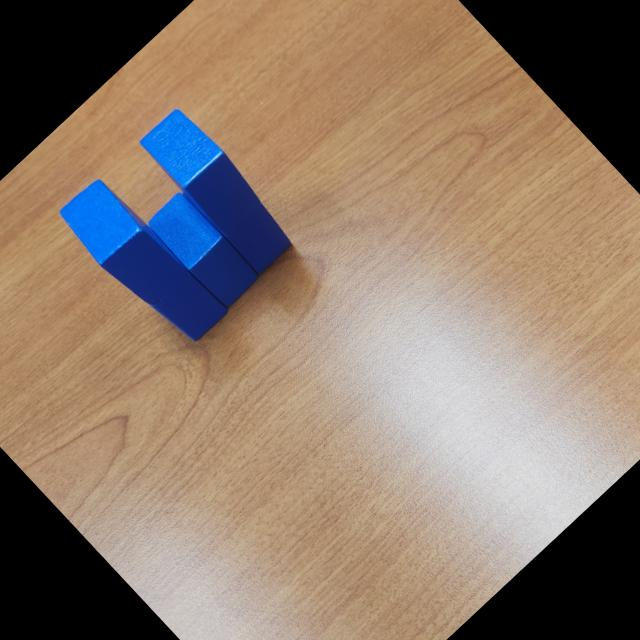blue: (53, 172, 193, 314), (136, 102, 268, 238), (144, 189, 264, 312), (182, 156, 298, 276), (148, 266, 230, 348)
